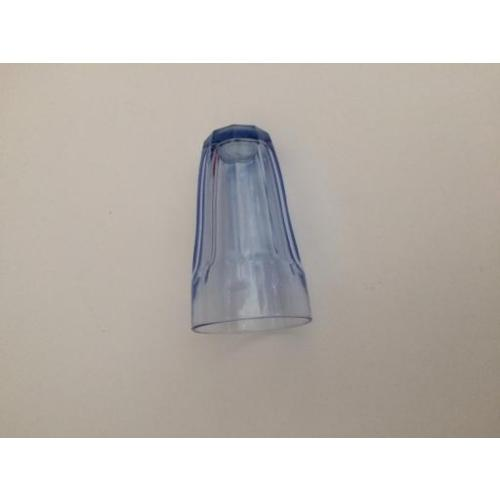glass: (196, 128, 312, 330)
